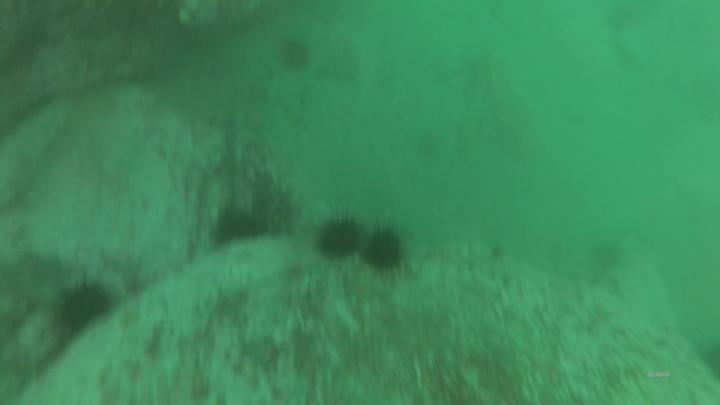echinus: (52, 273, 117, 337), (359, 223, 409, 283), (316, 209, 366, 265), (210, 209, 269, 247), (278, 36, 317, 72)
